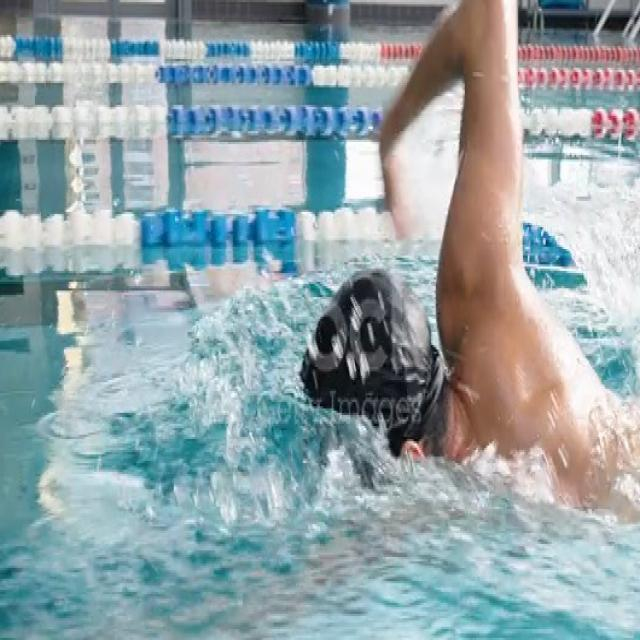Swimming: (295, 0, 640, 520)
